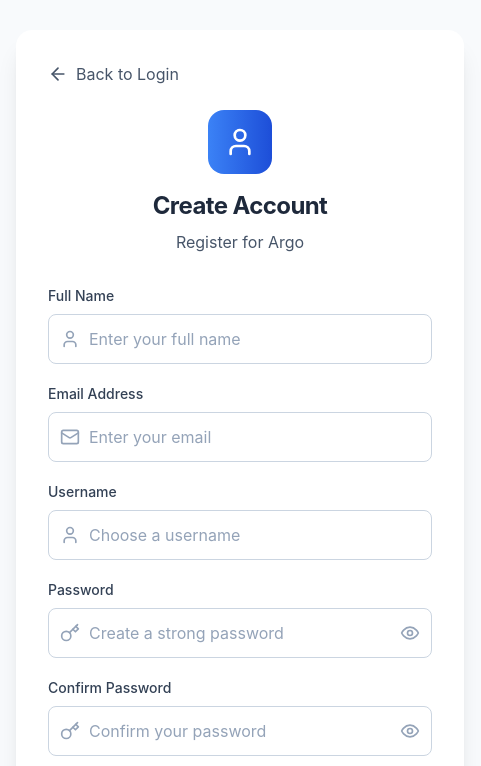
Test case: RegistrationForm server error display › falls back to a generic message when the request never reached the server
The image size is (481, 766).
Type "Kavita" into the field with placeholder "Enter your full name" at (240, 339), box [48,314,432,364]
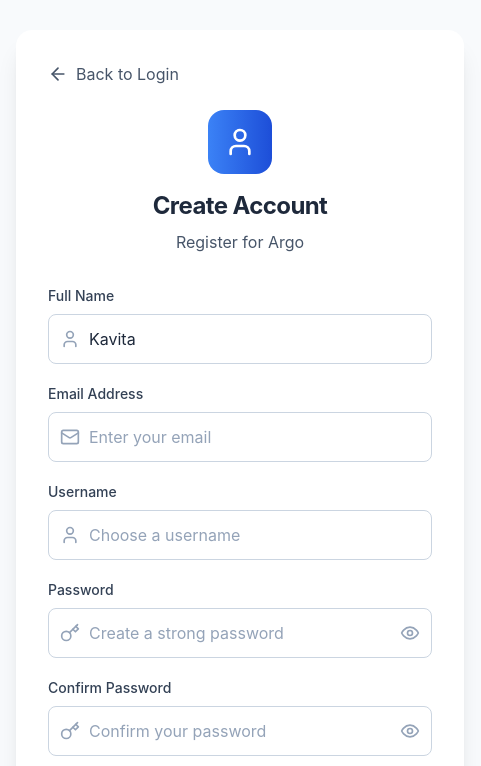
Type "kavita@example.com" into the field with placeholder "Enter your email" at (240, 437), box [48,412,432,462]
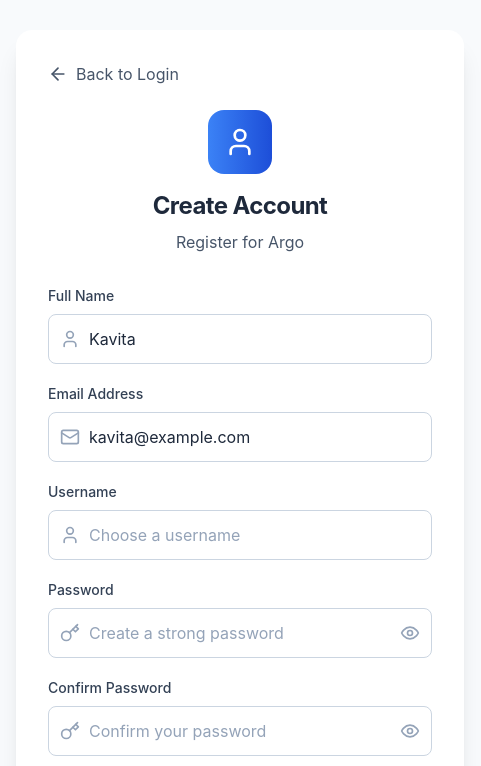
Type "kavita" into the field with placeholder "Choose a username" at (240, 535), box [48,510,432,560]
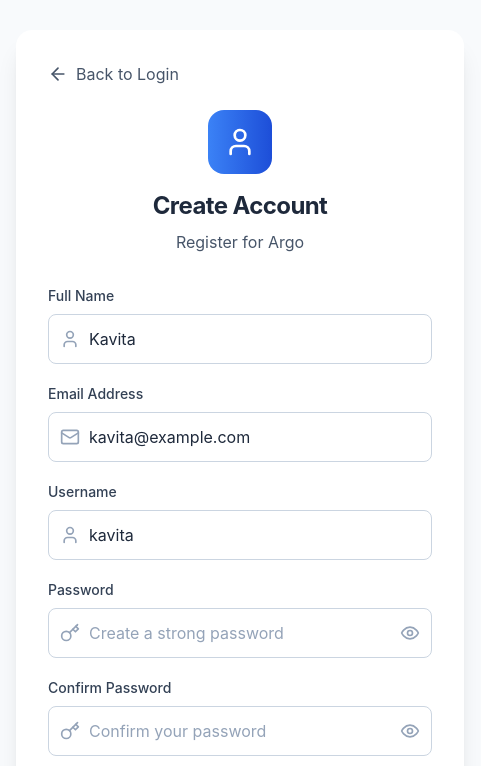
Type "1714Admin$" into the password field with placeholder "Create a strong password" at (240, 633), box [48,608,432,658]
(page scrolled)
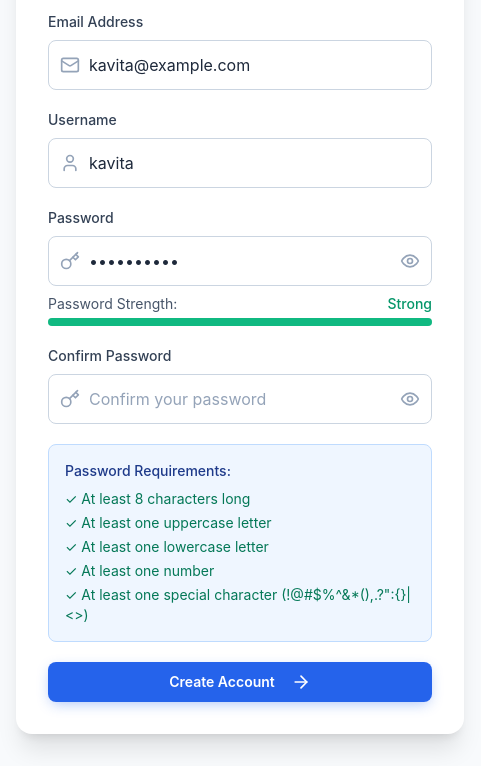
Type "1714Admin$" into the password field with placeholder "Confirm your password" at (240, 399), box [48,374,432,424]
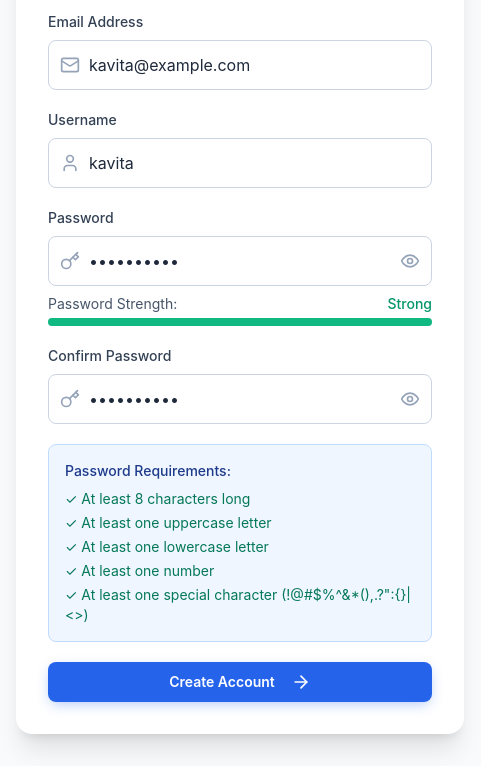
Click the button "Create Account" at (240, 682), box [48,662,432,702]
(page scrolled)
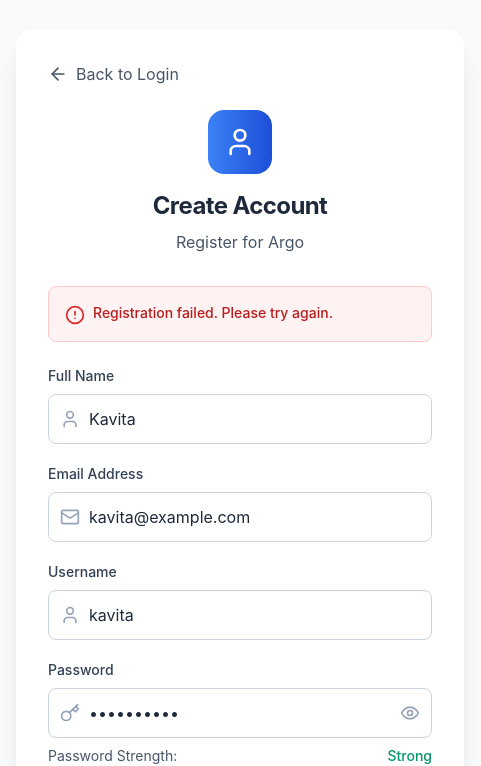
Check: the text "Registration failed. Please try again." is shown, box [93,303,333,323]
